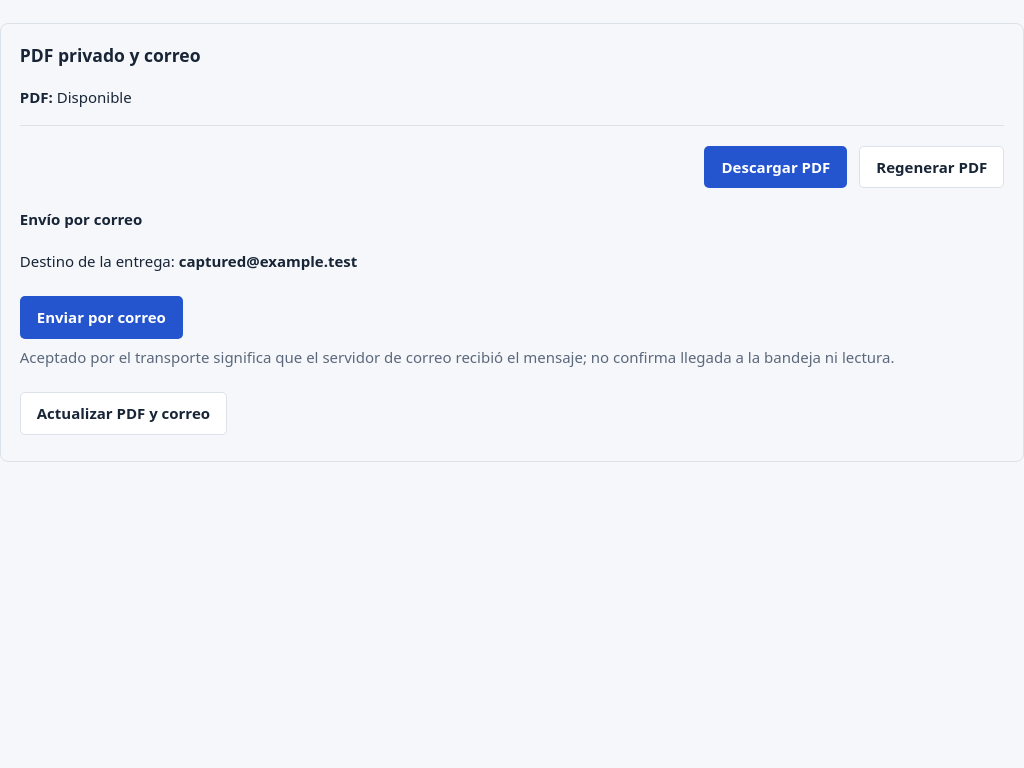
Test: bloquea doble solicitud mientras espera
The image size is (1024, 768).
Click the button "Enviar por correo" at point(101, 318), box left=20, top=296, right=183, bottom=339
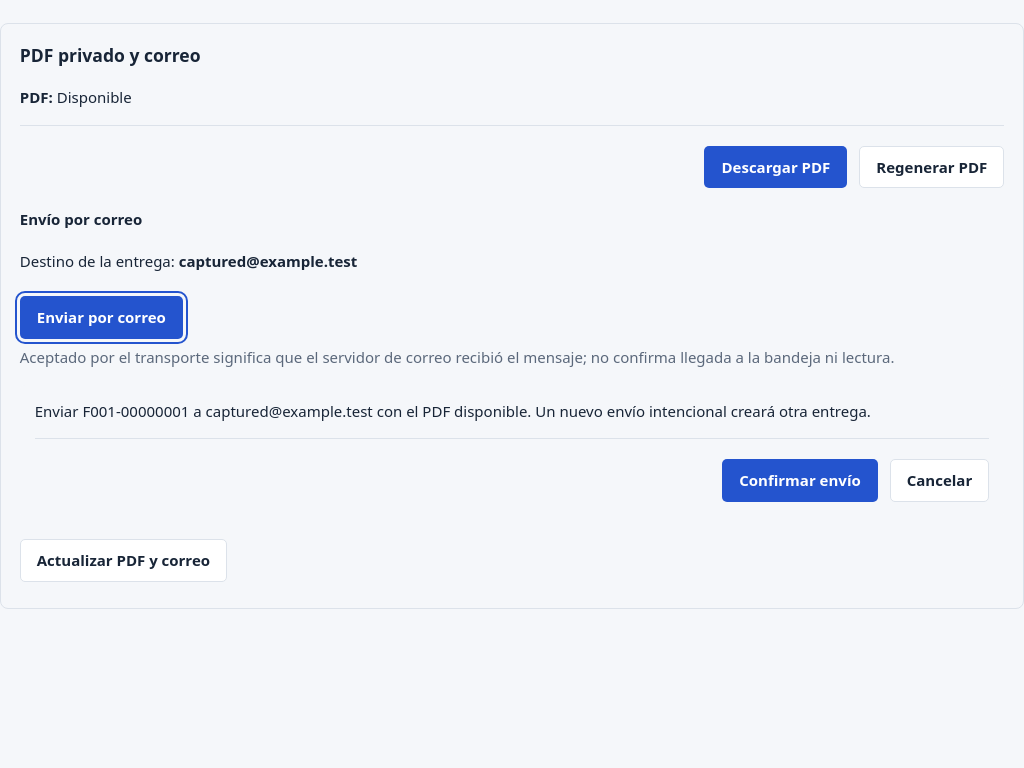
Double-click the button "Confirmar envío" at point(800, 481), box left=722, top=460, right=878, bottom=502
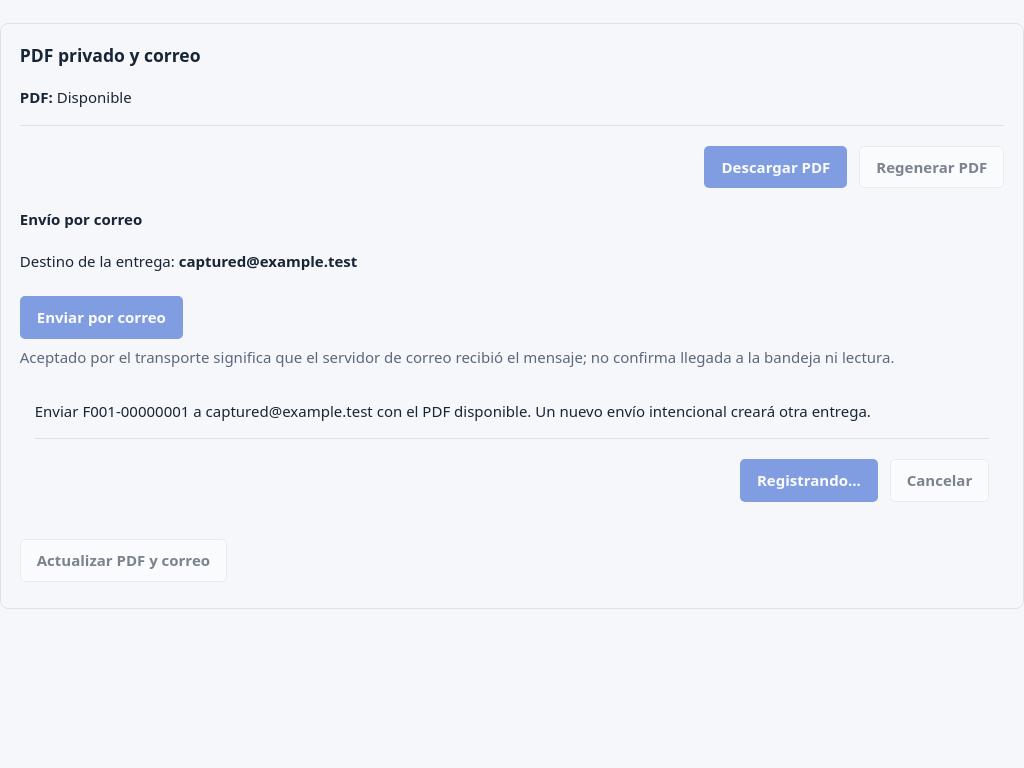
Result: the button "Registrando..." is disabled at left=740, top=460, right=878, bottom=502
